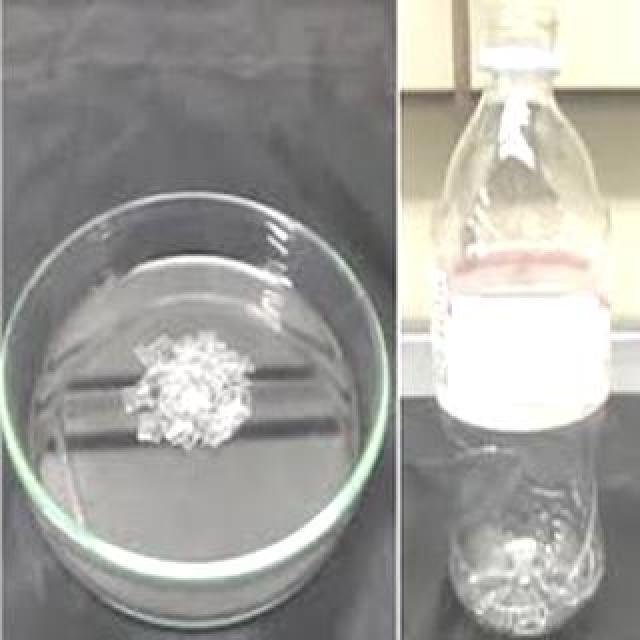Pet_Bottle: (422, 0, 622, 640)
